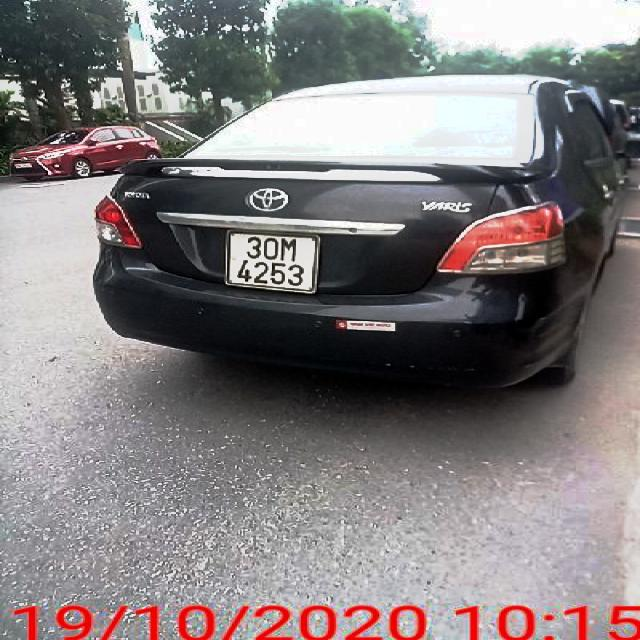license_plate: (229, 232, 318, 292)
